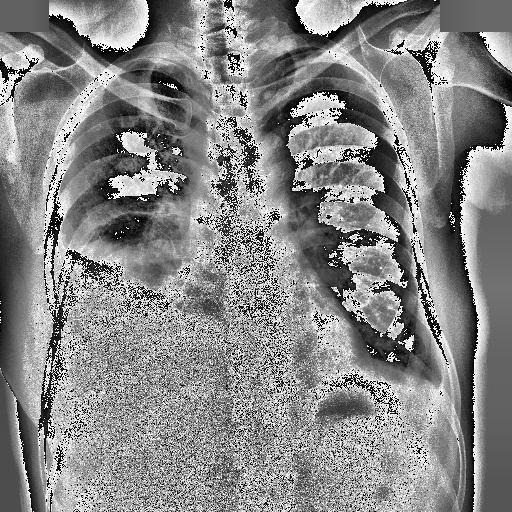10- Pleural effusion: (58, 160, 210, 403), (46, 232, 217, 384), (40, 242, 220, 380), (428, 362, 460, 412), (430, 354, 454, 410), (430, 376, 453, 404)
11- Pleural thickening: (428, 362, 460, 412), (430, 354, 454, 410), (430, 376, 453, 404), (147, 55, 175, 67)
13- Pulmonary fibrosis: (118, 154, 149, 176)
7- Lung Opacity: (74, 194, 220, 316), (62, 232, 218, 316), (74, 226, 216, 310), (116, 156, 146, 174)
